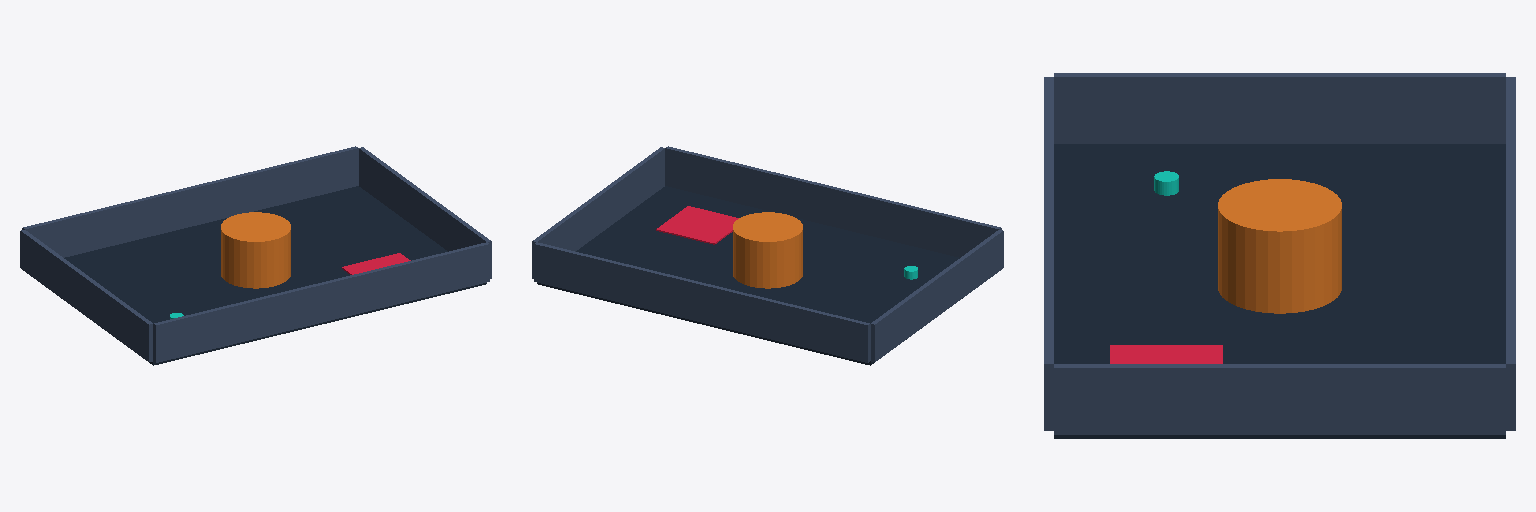
robot.urdf — veab_absence-rejection:
<?xml version='1.0' encoding='utf-8'?>
<robot name="veab_absence-rejection"><link name="world" /><link name="factory-floor"><visual><origin xyz="0 0 0" rpy="0 0 0" /><geometry><box size="12 8 0.15" /></geometry><material name="mat_factory-floor"><color rgba="0.16 0.21 0.27 1" /></material></visual><collision><origin xyz="0 0 0" rpy="0 0 0" /><geometry><box size="12 8 0.15" /></geometry></collision><inertial><origin xyz="0 0 0" rpy="0 0 0" /><mass value="1.0" /><inertia ixx="0.12" iyy="0.12" izz="0.12" ixy="0" ixz="0" iyz="0" /></inertial></link><joint name="anchor_factory-floor" type="fixed"><parent link="world" /><child link="factory-floor" /><origin xyz="6 4 -0.075" rpy="0 0 0" /></joint><link name="west-boundary"><visual><origin xyz="0 0 0" rpy="0 0 0" /><geometry><box size="0.16 8 1.3" /></geometry><material name="mat_west-boundary"><color rgba="0.3 0.36 0.46 0.68" /></material></visual><collision><origin xyz="0 0 0" rpy="0 0 0" /><geometry><box size="0.16 8 1.3" /></geometry></collision><inertial><origin xyz="0 0 0" rpy="0 0 0" /><mass value="1.0" /><inertia ixx="0.12" iyy="0.12" izz="0.12" ixy="0" ixz="0" iyz="0" /></inertial></link><joint name="anchor_west-boundary" type="fixed"><parent link="world" /><child link="west-boundary" /><origin xyz="-0.08 4 0.65" rpy="0 0 0" /></joint><link name="east-boundary"><visual><origin xyz="0 0 0" rpy="0 0 0" /><geometry><box size="0.16 8 1.3" /></geometry><material name="mat_east-boundary"><color rgba="0.3 0.36 0.46 0.68" /></material></visual><collision><origin xyz="0 0 0" rpy="0 0 0" /><geometry><box size="0.16 8 1.3" /></geometry></collision><inertial><origin xyz="0 0 0" rpy="0 0 0" /><mass value="1.0" /><inertia ixx="0.12" iyy="0.12" izz="0.12" ixy="0" ixz="0" iyz="0" /></inertial></link><joint name="anchor_east-boundary" type="fixed"><parent link="world" /><child link="east-boundary" /><origin xyz="12.08 4 0.65" rpy="0 0 0" /></joint><link name="south-boundary"><visual><origin xyz="0 0 0" rpy="0 0 0" /><geometry><box size="12 0.16 1.3" /></geometry><material name="mat_south-boundary"><color rgba="0.3 0.36 0.46 0.68" /></material></visual><collision><origin xyz="0 0 0" rpy="0 0 0" /><geometry><box size="12 0.16 1.3" /></geometry></collision><inertial><origin xyz="0 0 0" rpy="0 0 0" /><mass value="1.0" /><inertia ixx="0.12" iyy="0.12" izz="0.12" ixy="0" ixz="0" iyz="0" /></inertial></link><joint name="anchor_south-boundary" type="fixed"><parent link="world" /><child link="south-boundary" /><origin xyz="6 -0.08 0.65" rpy="0 0 0" /></joint><link name="north-boundary"><visual><origin xyz="0 0 0" rpy="0 0 0" /><geometry><box size="12 0.16 1.3" /></geometry><material name="mat_north-boundary"><color rgba="0.3 0.36 0.46 0.68" /></material></visual><collision><origin xyz="0 0 0" rpy="0 0 0" /><geometry><box size="12 0.16 1.3" /></geometry></collision><inertial><origin xyz="0 0 0" rpy="0 0 0" /><mass value="1.0" /><inertia ixx="0.12" iyy="0.12" izz="0.12" ixy="0" ixz="0" iyz="0" /></inertial></link><joint name="anchor_north-boundary" type="fixed"><parent link="world" /><child link="north-boundary" /><origin xyz="6 8.08 0.65" rpy="0 0 0" /></joint><link name="static-fixture"><visual><origin xyz="0 0 0" rpy="0 0 0" /><geometry><cylinder radius="1.1" length="1.6" /></geometry><material name="mat_static-fixture"><color rgba="0.9 0.52 0.2 1" /></material></visual><collision><origin xyz="0 0 0" rpy="0 0 0" /><geometry><cylinder radius="1.1" length="1.6" /></geometry></collision><inertial><origin xyz="0 0 0" rpy="0 0 0" /><mass value="1.0" /><inertia ixx="0.12" iyy="0.12" izz="0.12" ixy="0" ixz="0" iyz="0" /></inertial></link><joint name="anchor_static-fixture" type="fixed"><parent link="world" /><child link="static-fixture" /><origin xyz="6 4 0.8" rpy="0 0 0" /></joint><link name="restricted-zone"><visual><origin xyz="0 0 0" rpy="0 0 0" /><geometry><box size="2.1 2 0.05" /></geometry><material name="mat_restricted-zone"><color rgba="0.9 0.18 0.32 0.25" /></material></visual><inertial><origin xyz="0 0 0" rpy="0 0 0" /><mass value="1.0" /><inertia ixx="0.12" iyy="0.12" izz="0.12" ixy="0" ixz="0" iyz="0" /></inertial></link><joint name="anchor_restricted-zone" type="fixed"><parent link="world" /><child link="restricted-zone" /><origin xyz="9.55 2 0.025" rpy="0 0 0" /></joint><link name="robot"><visual><origin xyz="0 0 0" rpy="0 0 0" /><geometry><cylinder radius="0.22" length="0.27" /></geometry><material name="mat_robot"><color rgba="0.12 0.83 0.76 1" /></material></visual><collision><origin xyz="0 0 0" rpy="0 0 0" /><geometry><cylinder radius="0.22" length="0.27" /></geometry></collision><inertial><origin xyz="0 0 0" rpy="0 0 0" /><mass value="8.0" /><inertia ixx="0.12" iyy="0.12" izz="0.12" ixy="0" ixz="0" iyz="0" /></inertial></link><joint name="anchor_robot" type="fixed"><parent link="world" /><child link="robot" /><origin xyz="2 2 0.16" rpy="0 0 0" /></joint></robot>

--- Facts derived from the render (not from the file) ---
Views: 3 orthographic renders of the robot side by side, from view 1: azimuth 30°, elevation 25°; view 2: azimuth 150°, elevation 25°; view 3: azimuth 270°, elevation 25°.
Model veab_absence-rejection with 9 links and 8 joints (8 fixed), rooted at world, posed all joints at 0.
Visible links, largest first — view 1: factory-floor, south-boundary, north-boundary, west-boundary, static-fixture, east-boundary, restricted-zone; view 2: factory-floor, north-boundary, south-boundary, west-boundary, static-fixture, east-boundary, restricted-zone; view 3: factory-floor, west-boundary, east-boundary, static-fixture, south-boundary, north-boundary, restricted-zone, robot.
Boxes of the visible links, x1=… form: factory-floor: x1=61, y1=186, x2=486, y2=365; south-boundary: x1=153, y1=242, x2=489, y2=362; north-boundary: x1=22, y1=146, x2=358, y2=257; west-boundary: x1=20, y1=230, x2=152, y2=361; static-fixture: x1=221, y1=212, x2=290, y2=288; east-boundary: x1=359, y1=147, x2=491, y2=278; restricted-zone: x1=342, y1=253, x2=410, y2=274; factory-floor: x1=537, y1=186, x2=962, y2=365; north-boundary: x1=534, y1=242, x2=870, y2=362; south-boundary: x1=665, y1=146, x2=1001, y2=257; west-boundary: x1=871, y1=230, x2=1003, y2=361; static-fixture: x1=733, y1=212, x2=802, y2=288; east-boundary: x1=532, y1=147, x2=664, y2=278; restricted-zone: x1=656, y1=206, x2=738, y2=244; factory-floor: x1=1054, y1=144, x2=1505, y2=438; west-boundary: x1=1054, y1=73, x2=1505, y2=143; east-boundary: x1=1054, y1=364, x2=1505, y2=434; static-fixture: x1=1218, y1=179, x2=1341, y2=313; south-boundary: x1=1044, y1=77, x2=1053, y2=430; north-boundary: x1=1506, y1=77, x2=1515, y2=430; restricted-zone: x1=1110, y1=345, x2=1222, y2=363; robot: x1=1154, y1=171, x2=1178, y2=195.
Size in the robot's own frame: 12.32 by 8.32 by 1.75 metres.
Geometry: primitives only (box / cylinder / sphere), no mesh files.
